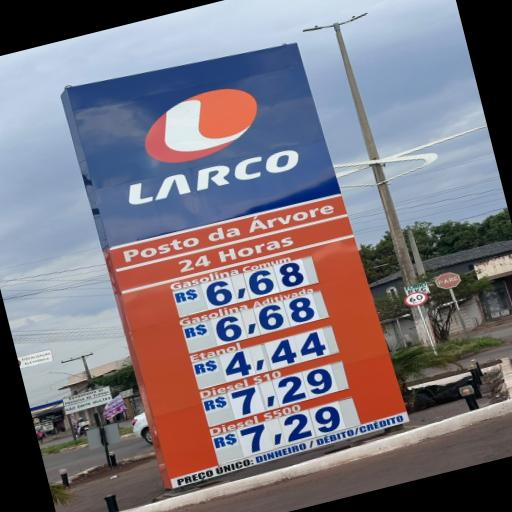ETANOL: (187, 340, 246, 364)
GASOLINA AD: (177, 281, 319, 328)
GASOLINA C: (168, 252, 302, 293)
S10: (197, 368, 289, 401)
S500: (208, 399, 312, 437)
placa: (133, 239, 392, 470)
preco: (219, 328, 331, 384), (237, 400, 348, 456), (228, 364, 339, 419), (211, 294, 319, 345), (202, 259, 309, 309)
